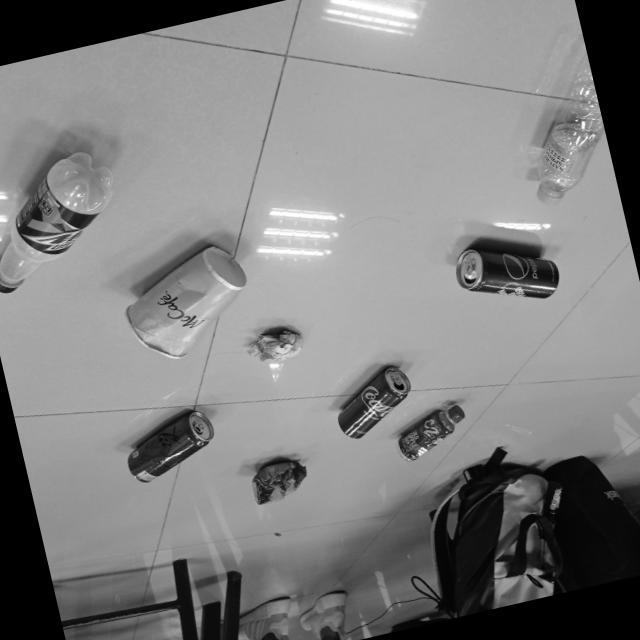recyclable waste: (0, 139, 139, 303), (108, 232, 267, 374), (500, 45, 620, 215), (446, 224, 569, 321), (115, 403, 226, 491), (324, 358, 424, 446), (382, 397, 476, 468), (240, 450, 316, 511), (241, 317, 312, 373)
